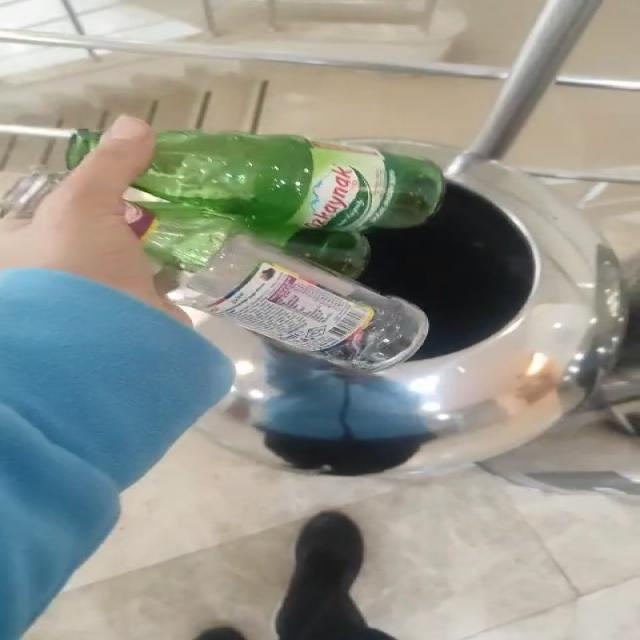glass: (125, 130, 445, 372)
